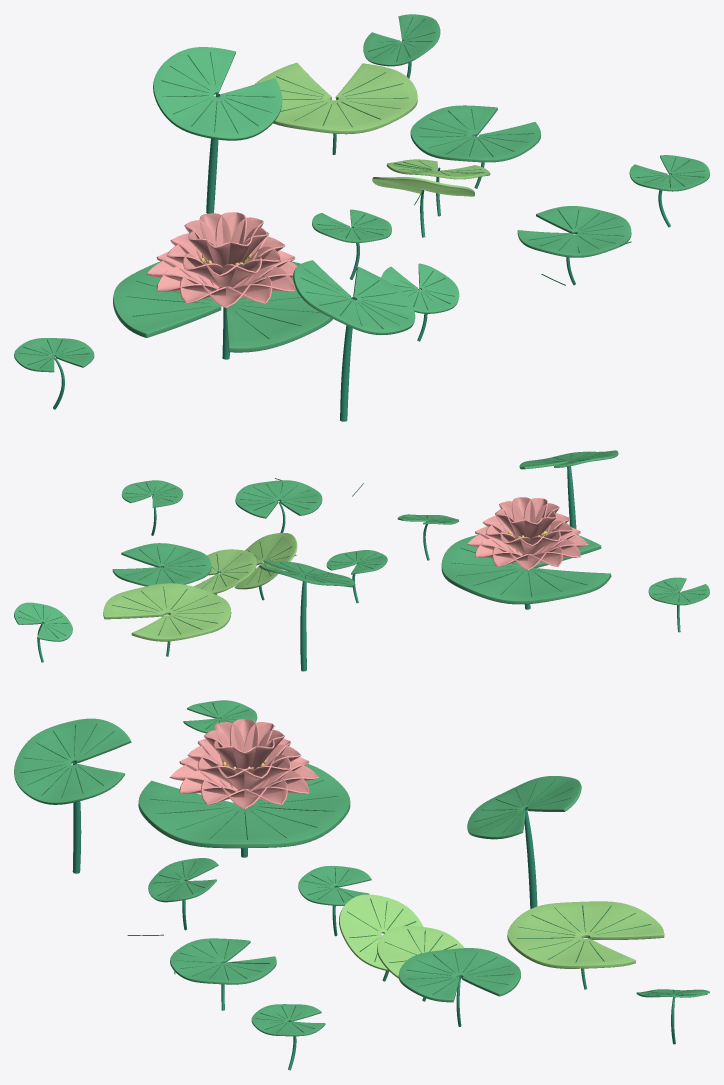
Rendered from lotus_and_lilypads003.glb.
The picture shows the model from 3 angles, top to bottom: view 1: azimuth 30°, elevation 25°; view 2: azimuth 150°, elevation 25°; view 3: azimuth 270°, elevation 25°; orthographic projection. The views are drawn at different scales.
Visible parts, largest first — view 1: LotusPad.003, LilyPad_01.006, LilyPad_02.003, LilyPad_01.011, LilyPad_01.005, LilyPad_03.003, LilyPad_05.004, LilyPad_05.013, LilyPad_05.011, LilyPad_05.003, LilyPad_05.012, LilyPad_04.006 (+5 smaller); view 2: LotusPad.003, LilyPad_02.003, LilyPad_01.005, LilyPad_03.003, LilyPad_04.006, LilyPad_04.005, LilyPad_05.004, LilyPad_01.006, LilyPad_05.003, LilyPad_05.011, LilyPad_05.012, LilyPad_01.011 (+6 smaller); view 3: LotusPad.003, LilyPad_02.003, LilyPad_01.011, LilyPad_01.005, LilyPad_01.006, LilyPad_03.003, LilyPad_04.005, LilyPad_04.006, LilyPad_05.013, LilyPad_05.012, LilyPad_05.003, LilyPad_05.011 (+4 smaller).
Boxes of the visible parts, bbox=[...] form: LotusPad.003: bbox=[113, 261, 332, 352]; LilyPad_01.006: bbox=[153, 47, 282, 140]; LilyPad_02.003: bbox=[255, 62, 417, 134]; LilyPad_01.011: bbox=[293, 260, 415, 334]; LilyPad_01.005: bbox=[410, 105, 540, 162]; LilyPad_03.003: bbox=[517, 206, 631, 257]; LilyPad_05.004: bbox=[363, 14, 440, 66]; LilyPad_05.013: bbox=[381, 263, 459, 313]; LilyPad_05.011: bbox=[14, 338, 94, 372]; LilyPad_05.003: bbox=[629, 155, 709, 191]; LilyPad_05.012: bbox=[312, 209, 391, 242]; LilyPad_04.006: bbox=[386, 159, 490, 179]; LotusPad.003: bbox=[441, 535, 611, 604]; LilyPad_02.003: bbox=[103, 583, 231, 641]; LilyPad_01.005: bbox=[112, 543, 211, 586]; LilyPad_03.003: bbox=[235, 480, 322, 518]; LilyPad_04.006: bbox=[194, 549, 256, 593]; LilyPad_04.005: bbox=[234, 533, 297, 589]; LilyPad_05.004: bbox=[14, 602, 72, 641]; LilyPad_01.006: bbox=[259, 560, 354, 587]; LilyPad_05.003: bbox=[121, 480, 183, 507]; LilyPad_05.011: bbox=[648, 577, 709, 605]; LilyPad_05.012: bbox=[326, 550, 387, 574]; LilyPad_01.011: bbox=[519, 450, 618, 469]; LotusPad.003: bbox=[138, 764, 350, 848]; LilyPad_02.003: bbox=[507, 901, 664, 968]; LilyPad_01.011: bbox=[14, 718, 131, 804]; LilyPad_01.005: bbox=[398, 948, 520, 1002]; LilyPad_01.006: bbox=[467, 776, 581, 839]; LilyPad_03.003: bbox=[170, 938, 276, 984]; LilyPad_04.005: bbox=[339, 894, 423, 971]; LilyPad_04.006: bbox=[377, 926, 464, 978]; LilyPad_05.013: bbox=[148, 858, 218, 902]; LilyPad_05.012: bbox=[298, 865, 371, 905]; LilyPad_05.003: bbox=[251, 1004, 325, 1036]; LilyPad_05.011: bbox=[183, 700, 257, 733].
Bounding box in the file's own units: 9.96 × 1.94 × 8.86.
